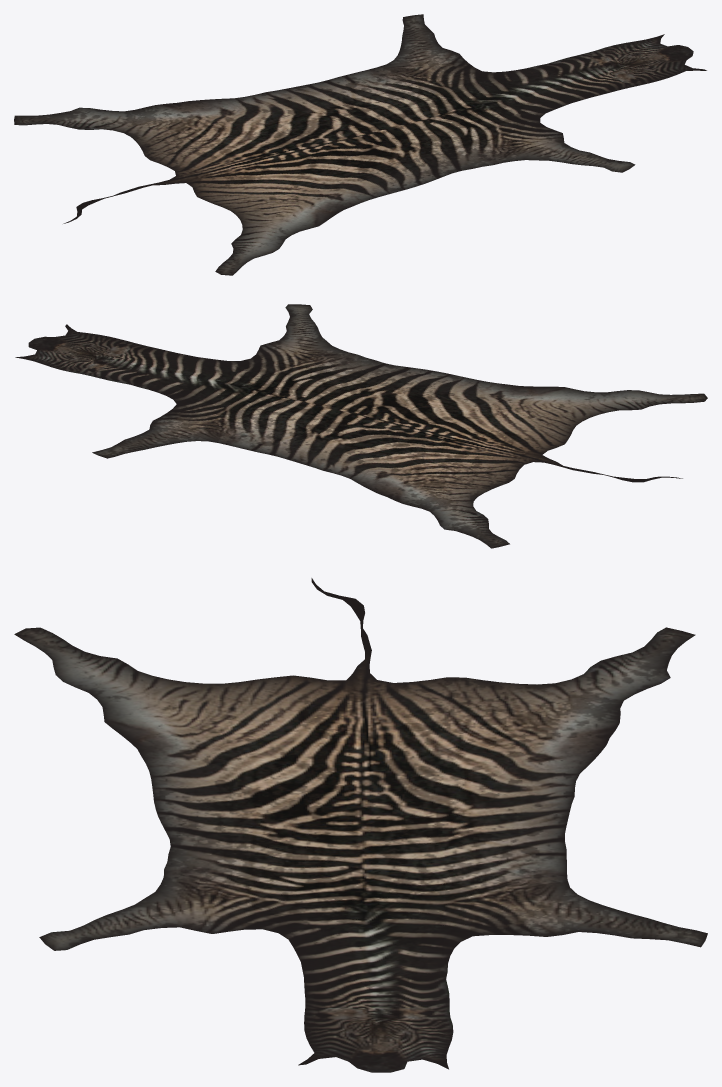
Rendered from SM_AnimalHide3.fbx.
3 views of the same model, one above another, from view 1: azimuth 30°, elevation 25°; view 2: azimuth 150°, elevation 25°; view 3: azimuth 270°, elevation 25° (orthographic). The views are drawn at different scales.
Visible parts, largest first — view 1: SM_AnimalHide3_LOD0; view 2: SM_AnimalHide3_LOD0; view 3: SM_AnimalHide3_LOD0.
Part boxes in pixels (box(x1,y1,x2,y2)): SM_AnimalHide3_LOD0: box(14, 14, 706, 275); SM_AnimalHide3_LOD0: box(15, 304, 707, 548); SM_AnimalHide3_LOD0: box(14, 578, 707, 1072).
Bounding box in the file's own units: 579 × 342 × 7.15e-06.
1 material, 1 textured.
